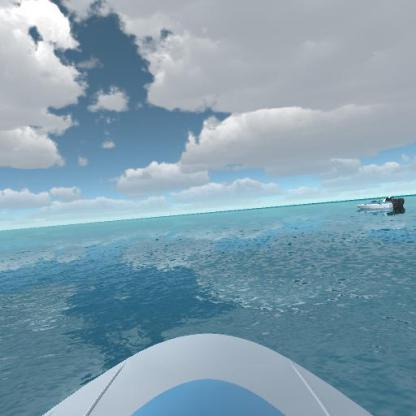usv1: (349, 186, 406, 217)
